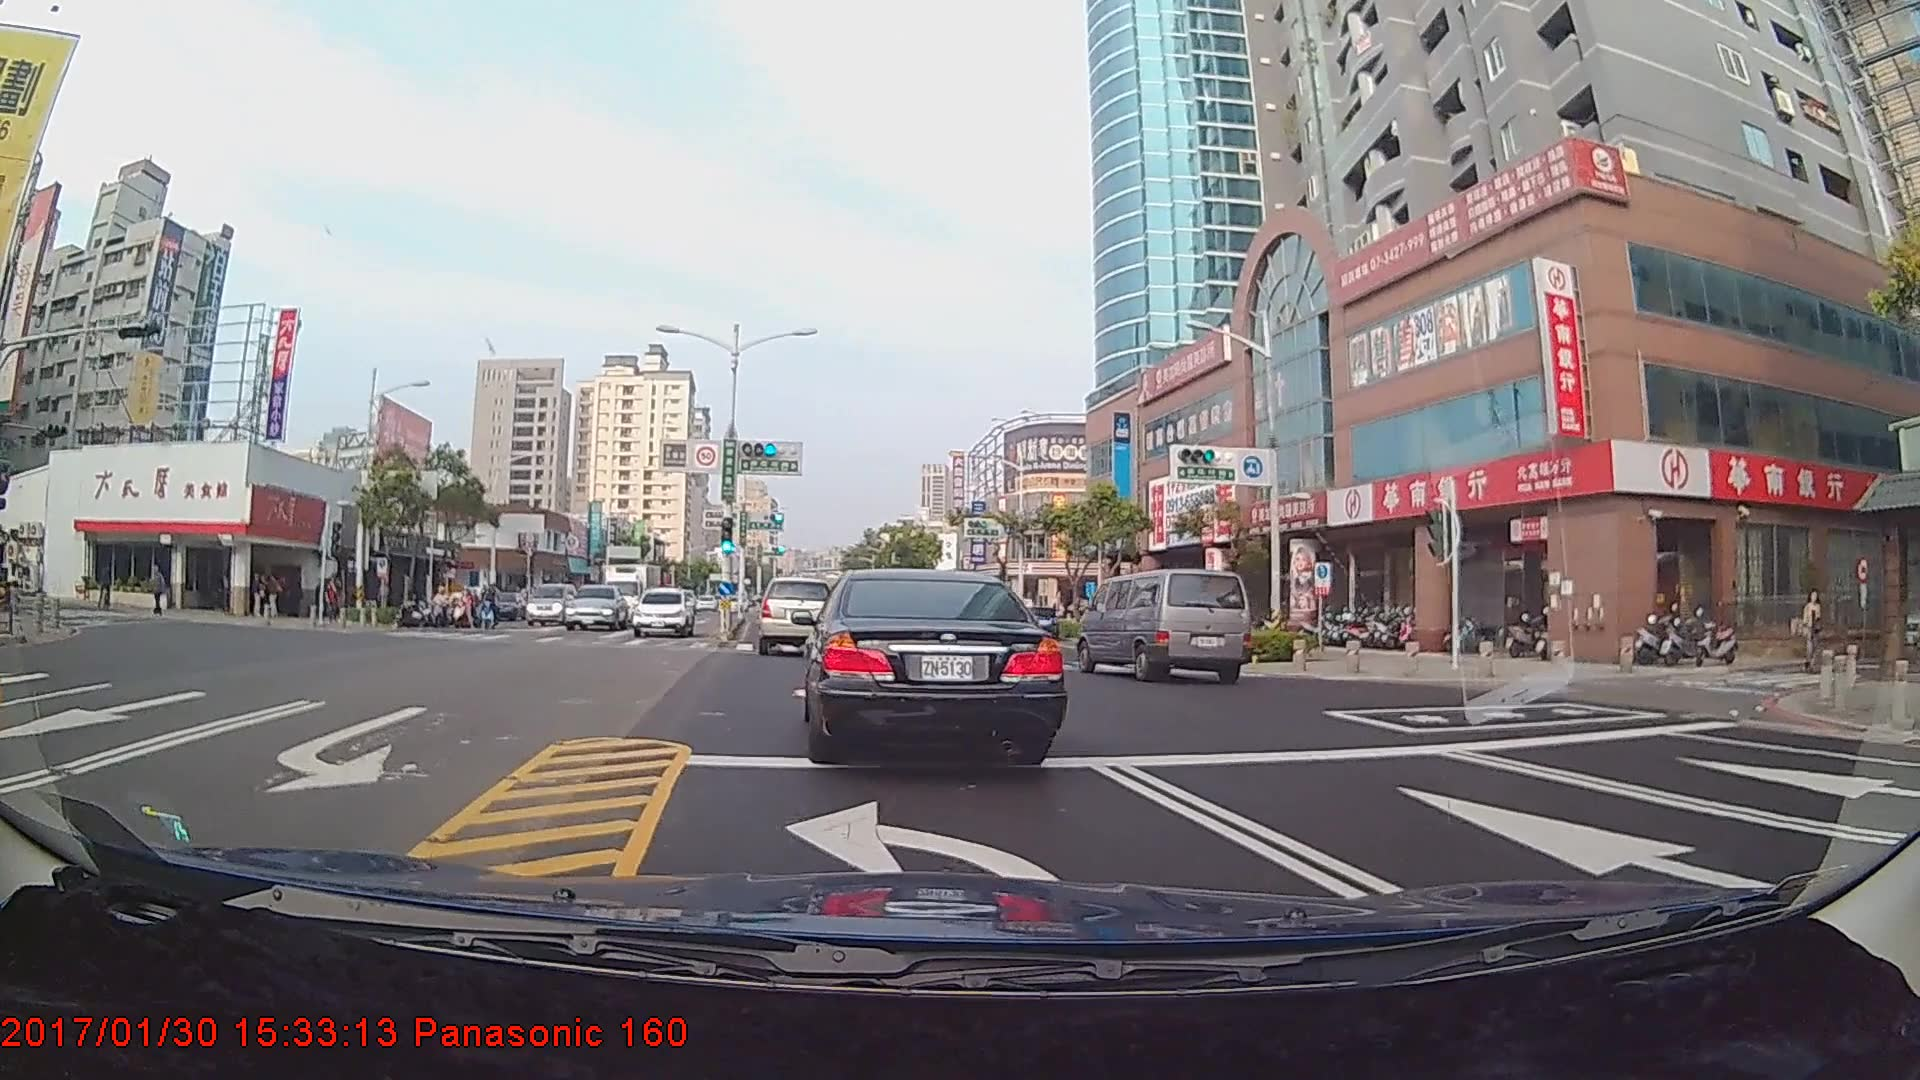pedestrian: (1801, 590, 1826, 663), (147, 565, 167, 614), (253, 570, 273, 621), (266, 573, 286, 621)
vehicle: (799, 566, 1061, 762), (1083, 565, 1248, 684), (757, 577, 836, 654), (607, 555, 668, 628), (563, 583, 631, 632), (633, 586, 695, 638), (524, 580, 580, 626), (1010, 602, 1060, 642)
